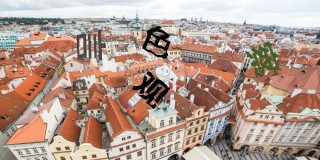察: (245, 41, 280, 77)
色: (141, 26, 171, 59)
观: (133, 71, 170, 110)
言: (75, 29, 106, 61)
